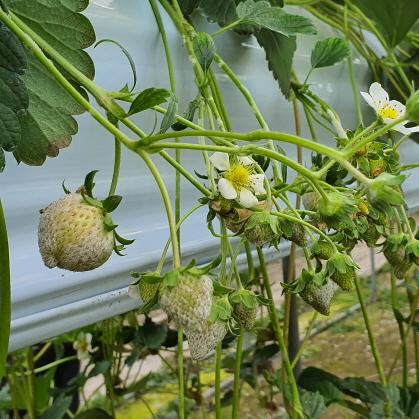Powdery Mildew Fruit: (35, 192, 116, 273), (156, 265, 214, 325), (183, 296, 231, 359), (296, 272, 333, 315)
